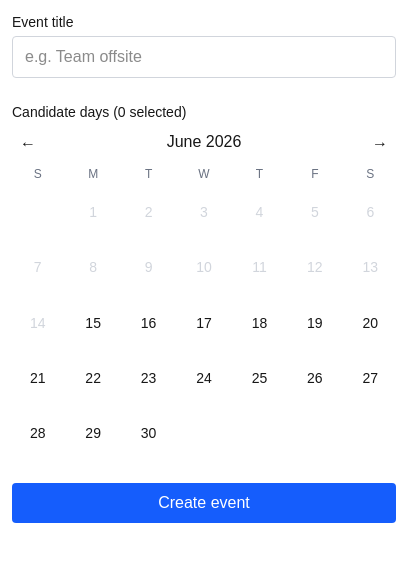
CreateEventForm › shows a validation error when submitting without a title
The width and height of the screenshot is (413, 584).
Click the button "20": (370, 323) [345,297,396,348]
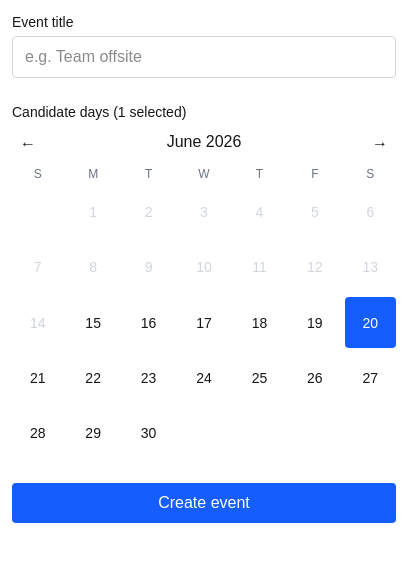
Click the button "Create event": (204, 503) [12,483,396,523]
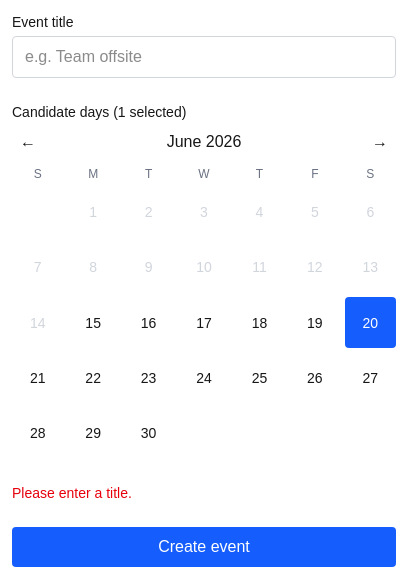
Expected: the text "Please enter a title." is shown, [12,485,132,501]
